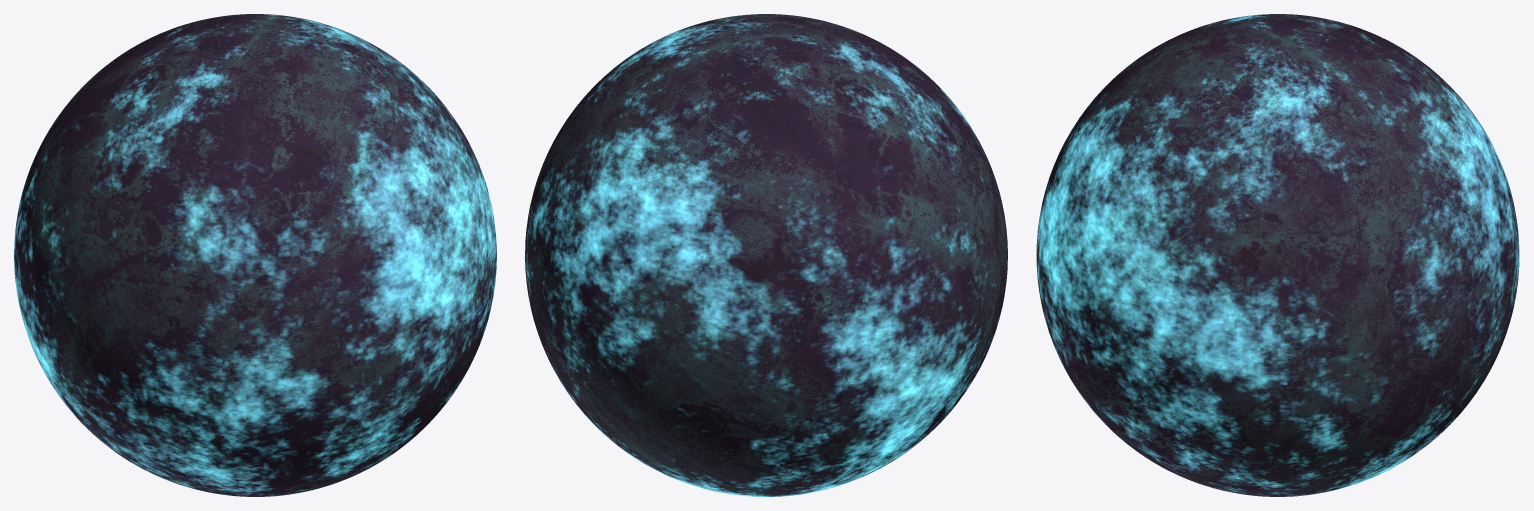
File: procedural3.glb
3 renders of one model, left to right at view 1: azimuth 30°, elevation 25°; view 2: azimuth 150°, elevation 25°; view 3: azimuth 270°, elevation 25°, orthographic.
Parts seen in each view (by area): view 1: Sphere; view 2: Sphere; view 3: Sphere.
Part boxes in pixels (x1=…): Sphere: x1=14, y1=14, x2=496, y2=496; Sphere: x1=525, y1=14, x2=1007, y2=496; Sphere: x1=1036, y1=14, x2=1519, y2=496.
Bounding box in the file's own units: 4.46 × 4.46 × 4.46.
1 material, 1 textured.
